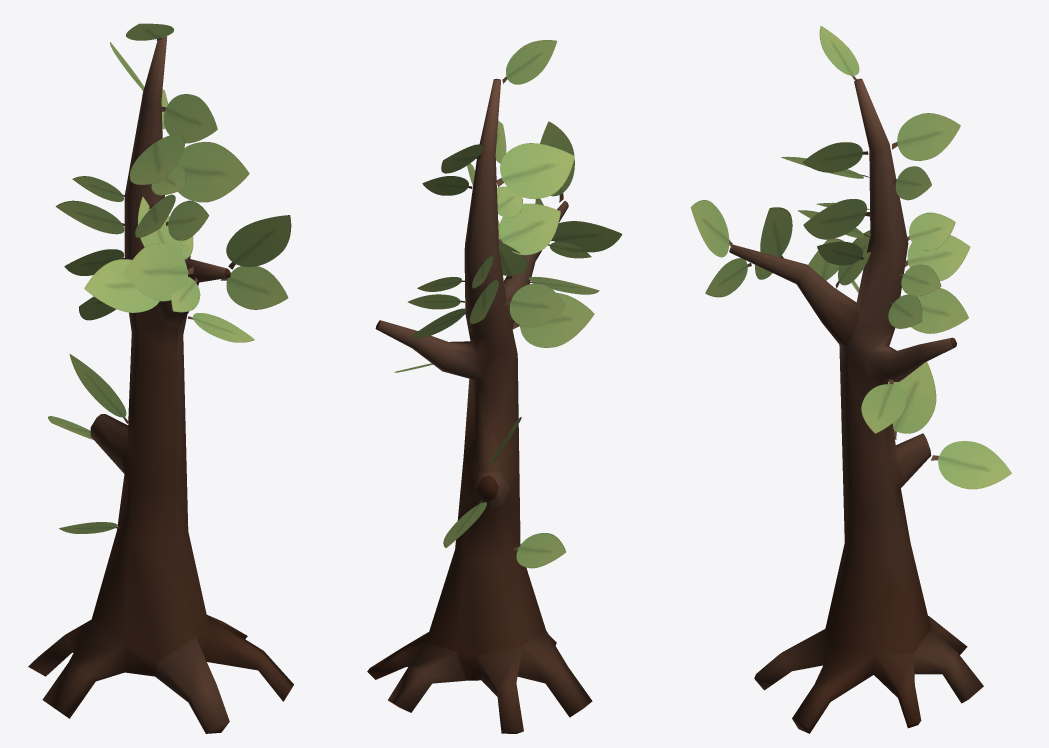
Rendered from TreeStage2.fbx.
3 views of the same model, side by side, from view 1: azimuth 30°, elevation 25°; view 2: azimuth 150°, elevation 25°; view 3: azimuth 270°, elevation 25° (orthographic). The views are drawn at different scales.
Parts seen in each view (by area): view 1: Cylinder.001, Cylinder.001|leafSmall|Dupli|5, Cylinder.001|leafSmall|Dupli|11, Cylinder.001|leafSmall|Dupli|10, Cylinder.001|leafSmall|Dupli|23, Cylinder.001|leafSmall|Dupli|9, Cylinder.001|leafSmall|Dupli|4, Cylinder.001|leafSmall|Dupli|3, Cylinder.001|leafSmall|Dupli|24, Cylinder.001|leafSmall|Dupli|18, Cylinder.001|leafSmall|Dupli|15, Cylinder.001|leafSmall|Dupli|25 (+9 smaller); view 2: Cylinder.001, Cylinder.001|leafSmall|Dupli|3, Cylinder.001|leafSmall|Dupli|16, Cylinder.001|leafSmall|Dupli|6, Cylinder.001|leafSmall|Dupli|17, Cylinder.001|leafSmall|Dupli|11, Cylinder.001|leafSmall|Dupli|22, Cylinder.001|leafSmall|Dupli|12, Cylinder.001|leafSmall|Dupli|10, Cylinder.001|leafSmall|Dupli|, Cylinder.001|leafSmall|Dupli|7, Cylinder.001|leafSmall|Dupli|1 (+6 smaller); view 3: Cylinder.001, Cylinder.001|leafSmall|Dupli|13, Cylinder.001|leafSmall|Dupli|1, Cylinder.001|leafSmall|Dupli|24, Cylinder.001|leafSmall|Dupli|5, Cylinder.001|leafSmall|Dupli|20, Cylinder.001|leafSmall|Dupli|25, Cylinder.001|leafSmall|Dupli|18, Cylinder.001|leafSmall|Dupli|10, Cylinder.001|leafSmall|Dupli|19, Cylinder.001|leafSmall|Dupli|4, Cylinder.001|leafSmall|Dupli|11 (+7 smaller).
Boxes of the visible parts, x1=… form: Cylinder.001: x1=28, y1=36, x2=293, y2=733; Cylinder.001|leafSmall|Dupli|5: x1=175, y1=142, x2=249, y2=202; Cylinder.001|leafSmall|Dupli|11: x1=124, y1=243, x2=193, y2=301; Cylinder.001|leafSmall|Dupli|10: x1=226, y1=215, x2=291, y2=269; Cylinder.001|leafSmall|Dupli|23: x1=84, y1=259, x2=159, y2=312; Cylinder.001|leafSmall|Dupli|9: x1=220, y1=266, x2=288, y2=309; Cylinder.001|leafSmall|Dupli|4: x1=159, y1=94, x2=217, y2=143; Cylinder.001|leafSmall|Dupli|3: x1=129, y1=134, x2=185, y2=184; Cylinder.001|leafSmall|Dupli|24: x1=69, y1=354, x2=128, y2=423; Cylinder.001|leafSmall|Dupli|18: x1=55, y1=200, x2=124, y2=234; Cylinder.001|leafSmall|Dupli|15: x1=166, y1=200, x2=208, y2=240; Cylinder.001|leafSmall|Dupli|25: x1=188, y1=313, x2=254, y2=342; Cylinder.001: x1=367, y1=78, x2=592, y2=733; Cylinder.001|leafSmall|Dupli|3: x1=496, y1=143, x2=574, y2=198; Cylinder.001|leafSmall|Dupli|16: x1=499, y1=203, x2=560, y2=255; Cylinder.001|leafSmall|Dupli|6: x1=512, y1=293, x2=594, y2=347; Cylinder.001|leafSmall|Dupli|17: x1=504, y1=283, x2=565, y2=327; Cylinder.001|leafSmall|Dupli|11: x1=551, y1=221, x2=622, y2=252; Cylinder.001|leafSmall|Dupli|22: x1=502, y1=40, x2=556, y2=84; Cylinder.001|leafSmall|Dupli|12: x1=512, y1=533, x2=565, y2=568; Cylinder.001|leafSmall|Dupli|10: x1=540, y1=121, x2=574, y2=202; Cylinder.001|leafSmall|Dupli|: x1=422, y1=176, x2=472, y2=195; Cylinder.001|leafSmall|Dupli|7: x1=499, y1=241, x2=527, y2=278; Cylinder.001|leafSmall|Dupli|1: x1=441, y1=144, x2=483, y2=173; Cylinder.001: x1=729, y1=78, x2=983, y2=733; Cylinder.001|leafSmall|Dupli|13: x1=931, y1=441, x2=1011, y2=489; Cylinder.001|leafSmall|Dupli|1: x1=892, y1=113, x2=960, y2=160; Cylinder.001|leafSmall|Dupli|24: x1=888, y1=361, x2=936, y2=439; Cylinder.001|leafSmall|Dupli|5: x1=803, y1=199, x2=871, y2=239; Cylinder.001|leafSmall|Dupli|20: x1=911, y1=288, x2=968, y2=333; Cylinder.001|leafSmall|Dupli|25: x1=861, y1=379, x2=906, y2=433; Cylinder.001|leafSmall|Dupli|18: x1=905, y1=235, x2=970, y2=280; Cylinder.001|leafSmall|Dupli|10: x1=690, y1=200, x2=732, y2=257; Cylinder.001|leafSmall|Dupli|19: x1=907, y1=212, x2=955, y2=250; Cylinder.001|leafSmall|Dupli|4: x1=802, y1=142, x2=868, y2=172; Cylinder.001|leafSmall|Dupli|11: x1=760, y1=207, x2=792, y2=258.
Bounding box in the file's own units: 50.17 × 142 × 68.71.
